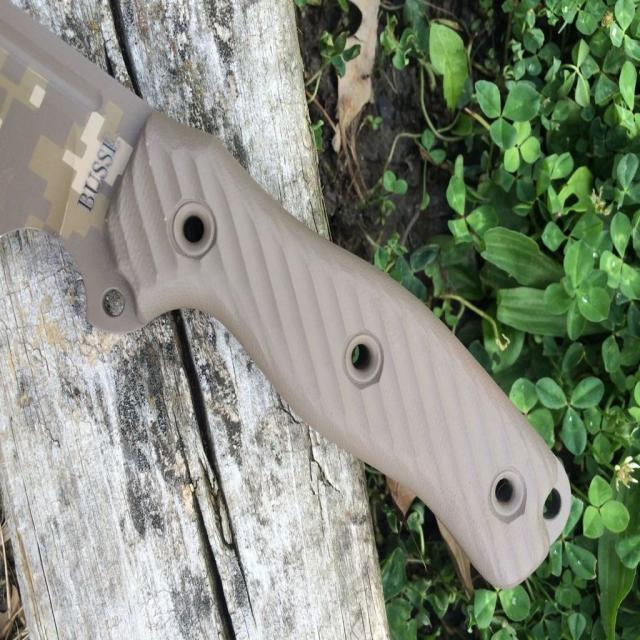Knife: (0, 0, 570, 587)
